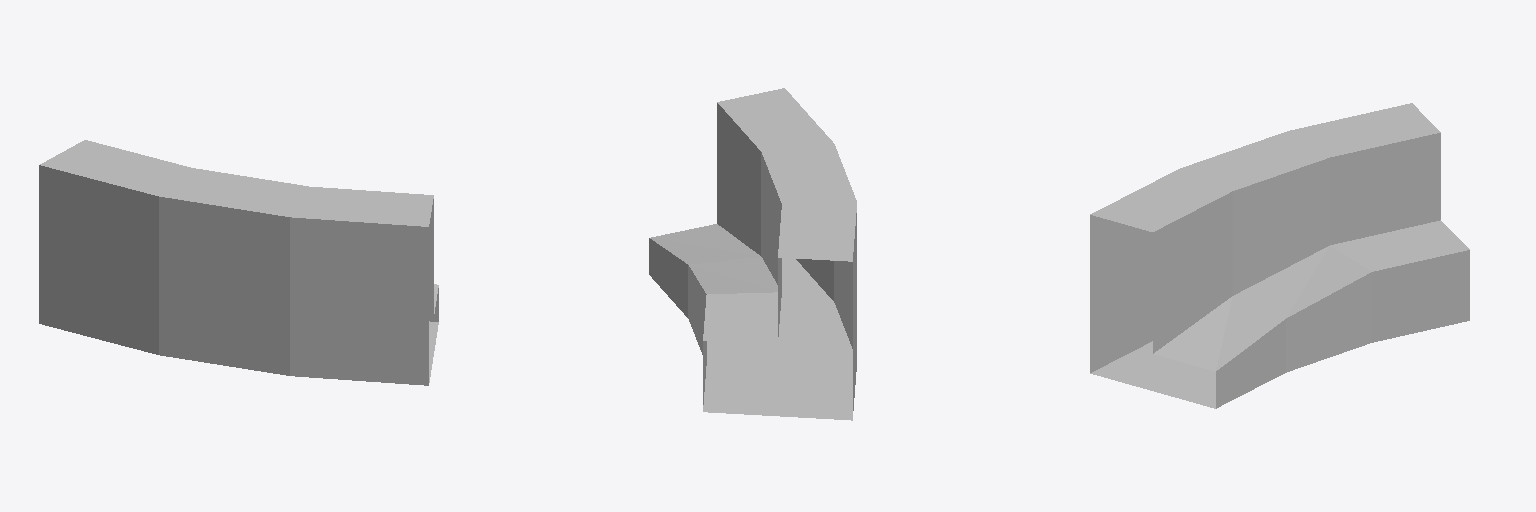
File: top_08.obj
3 views of the same model, side by side, from view 1: azimuth 30°, elevation 25°; view 2: azimuth 150°, elevation 25°; view 3: azimuth 270°, elevation 25° (orthographic).
Visible parts, largest first — view 1: Cylinder.045; view 2: Cylinder.045; view 3: Cylinder.045.
Boxes of the visible parts, x1=… form: Cylinder.045: x1=39, y1=140, x2=438, y2=385; Cylinder.045: x1=649, y1=88, x2=856, y2=420; Cylinder.045: x1=1090, y1=103, x2=1469, y2=408.
Bounding box in the file's own units: 18.7 × 9.41 × 20.4.